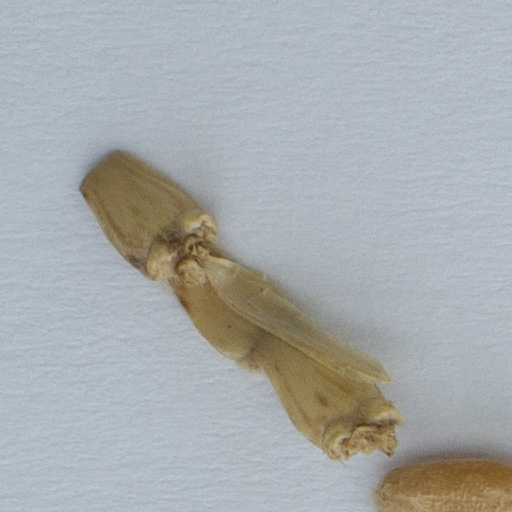Peel-poly: (77, 153, 399, 458)
